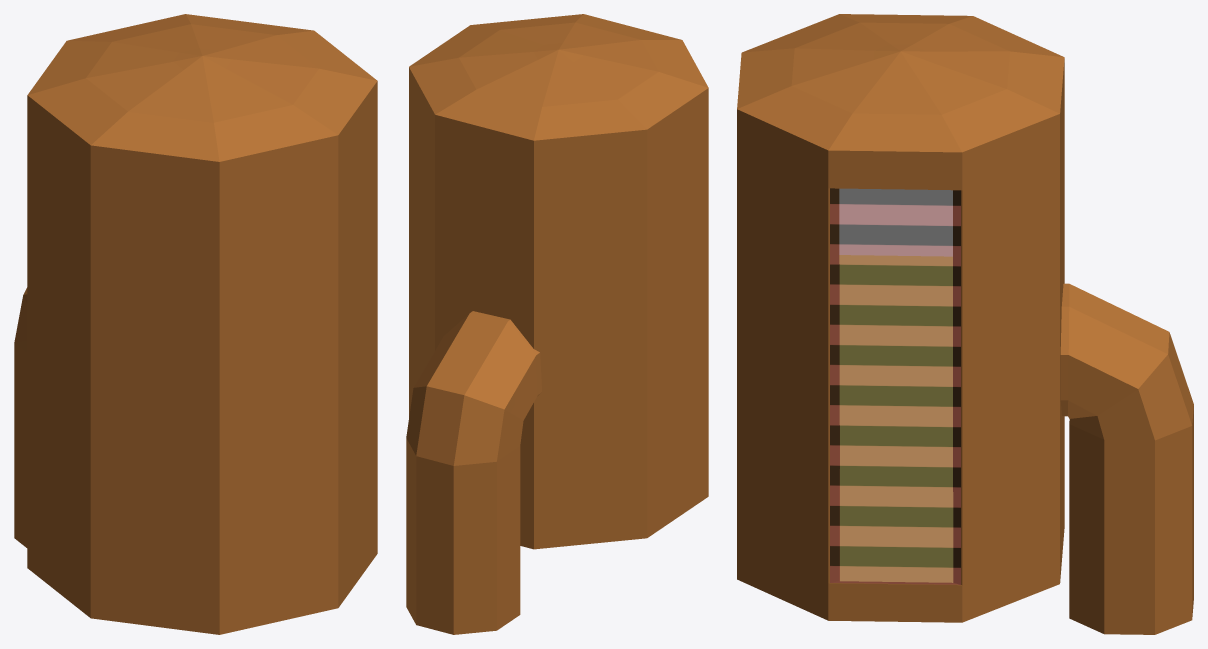
File: VAT160.glb
The picture shows the model from 3 angles, left to right: view 1: azimuth 30°, elevation 25°; view 2: azimuth 150°, elevation 25°; view 3: azimuth 270°, elevation 25°; orthographic projection. The views are drawn at different scales.
Parts seen in each view (by area): view 1: Cylinder, Cylinder.001; view 2: Cylinder, Cylinder.001; view 3: Cylinder, glass, liquidHeight, Cylinder.001.
Boxes of the visible parts, x1,y1,x2,y2 form: Cylinder: (27, 14, 377, 634); Cylinder.001: (14, 287, 27, 547); Cylinder: (409, 14, 708, 549); Cylinder.001: (406, 311, 541, 634); Cylinder: (737, 14, 1064, 622); glass: (830, 188, 960, 584); liquidHeight: (839, 189, 952, 582); Cylinder.001: (1060, 283, 1193, 634).
Bounding box in the file's own units: 1.82 × 3.44 × 2.54.
4 materials, 1 textured.
